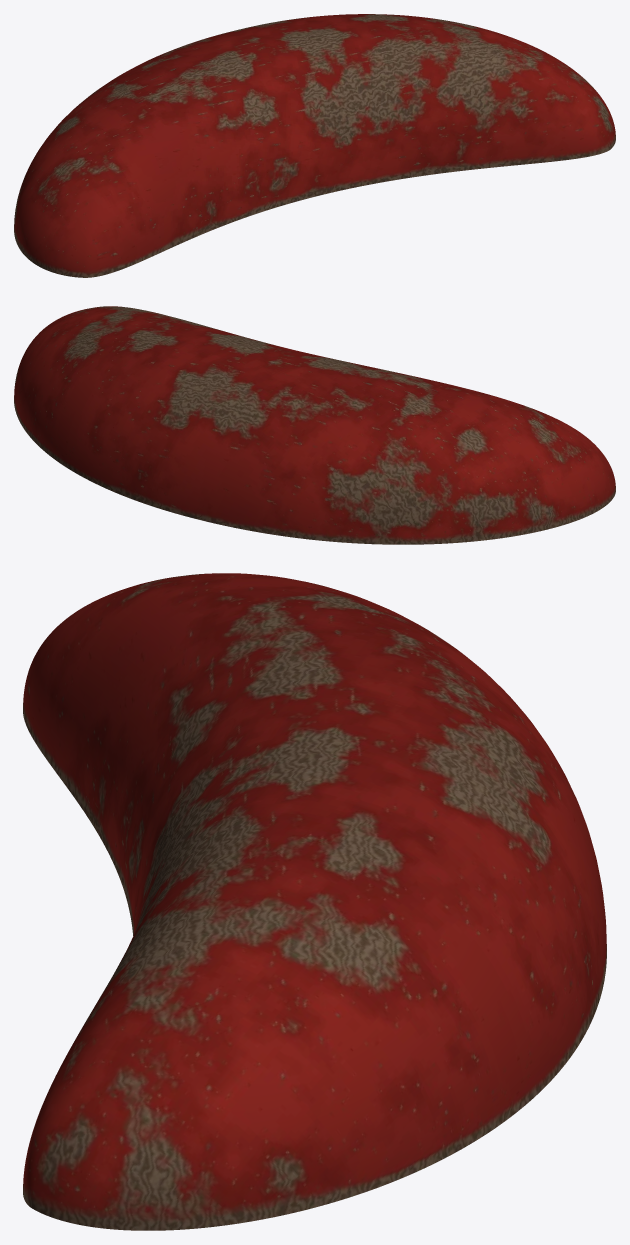
The model's file is jiao.glb.
3 views of the same model, one above another, from view 1: azimuth 30°, elevation 25°; view 2: azimuth 150°, elevation 25°; view 3: azimuth 270°, elevation 25° (orthographic). The views are drawn at different scales.
Parts seen in each view (by area): view 1: Jiao; view 2: Jiao; view 3: Jiao.
Boxes of the visible parts, left/top/right/bottom form: Jiao: left=14, top=14, right=615, bottom=277; Jiao: left=14, top=306, right=615, bottom=544; Jiao: left=23, top=573, right=606, bottom=1230.
Size of the model in its own units: 0.1173 by 0.0228 by 0.0518.
Materials: 2 (2 with a texture image).
